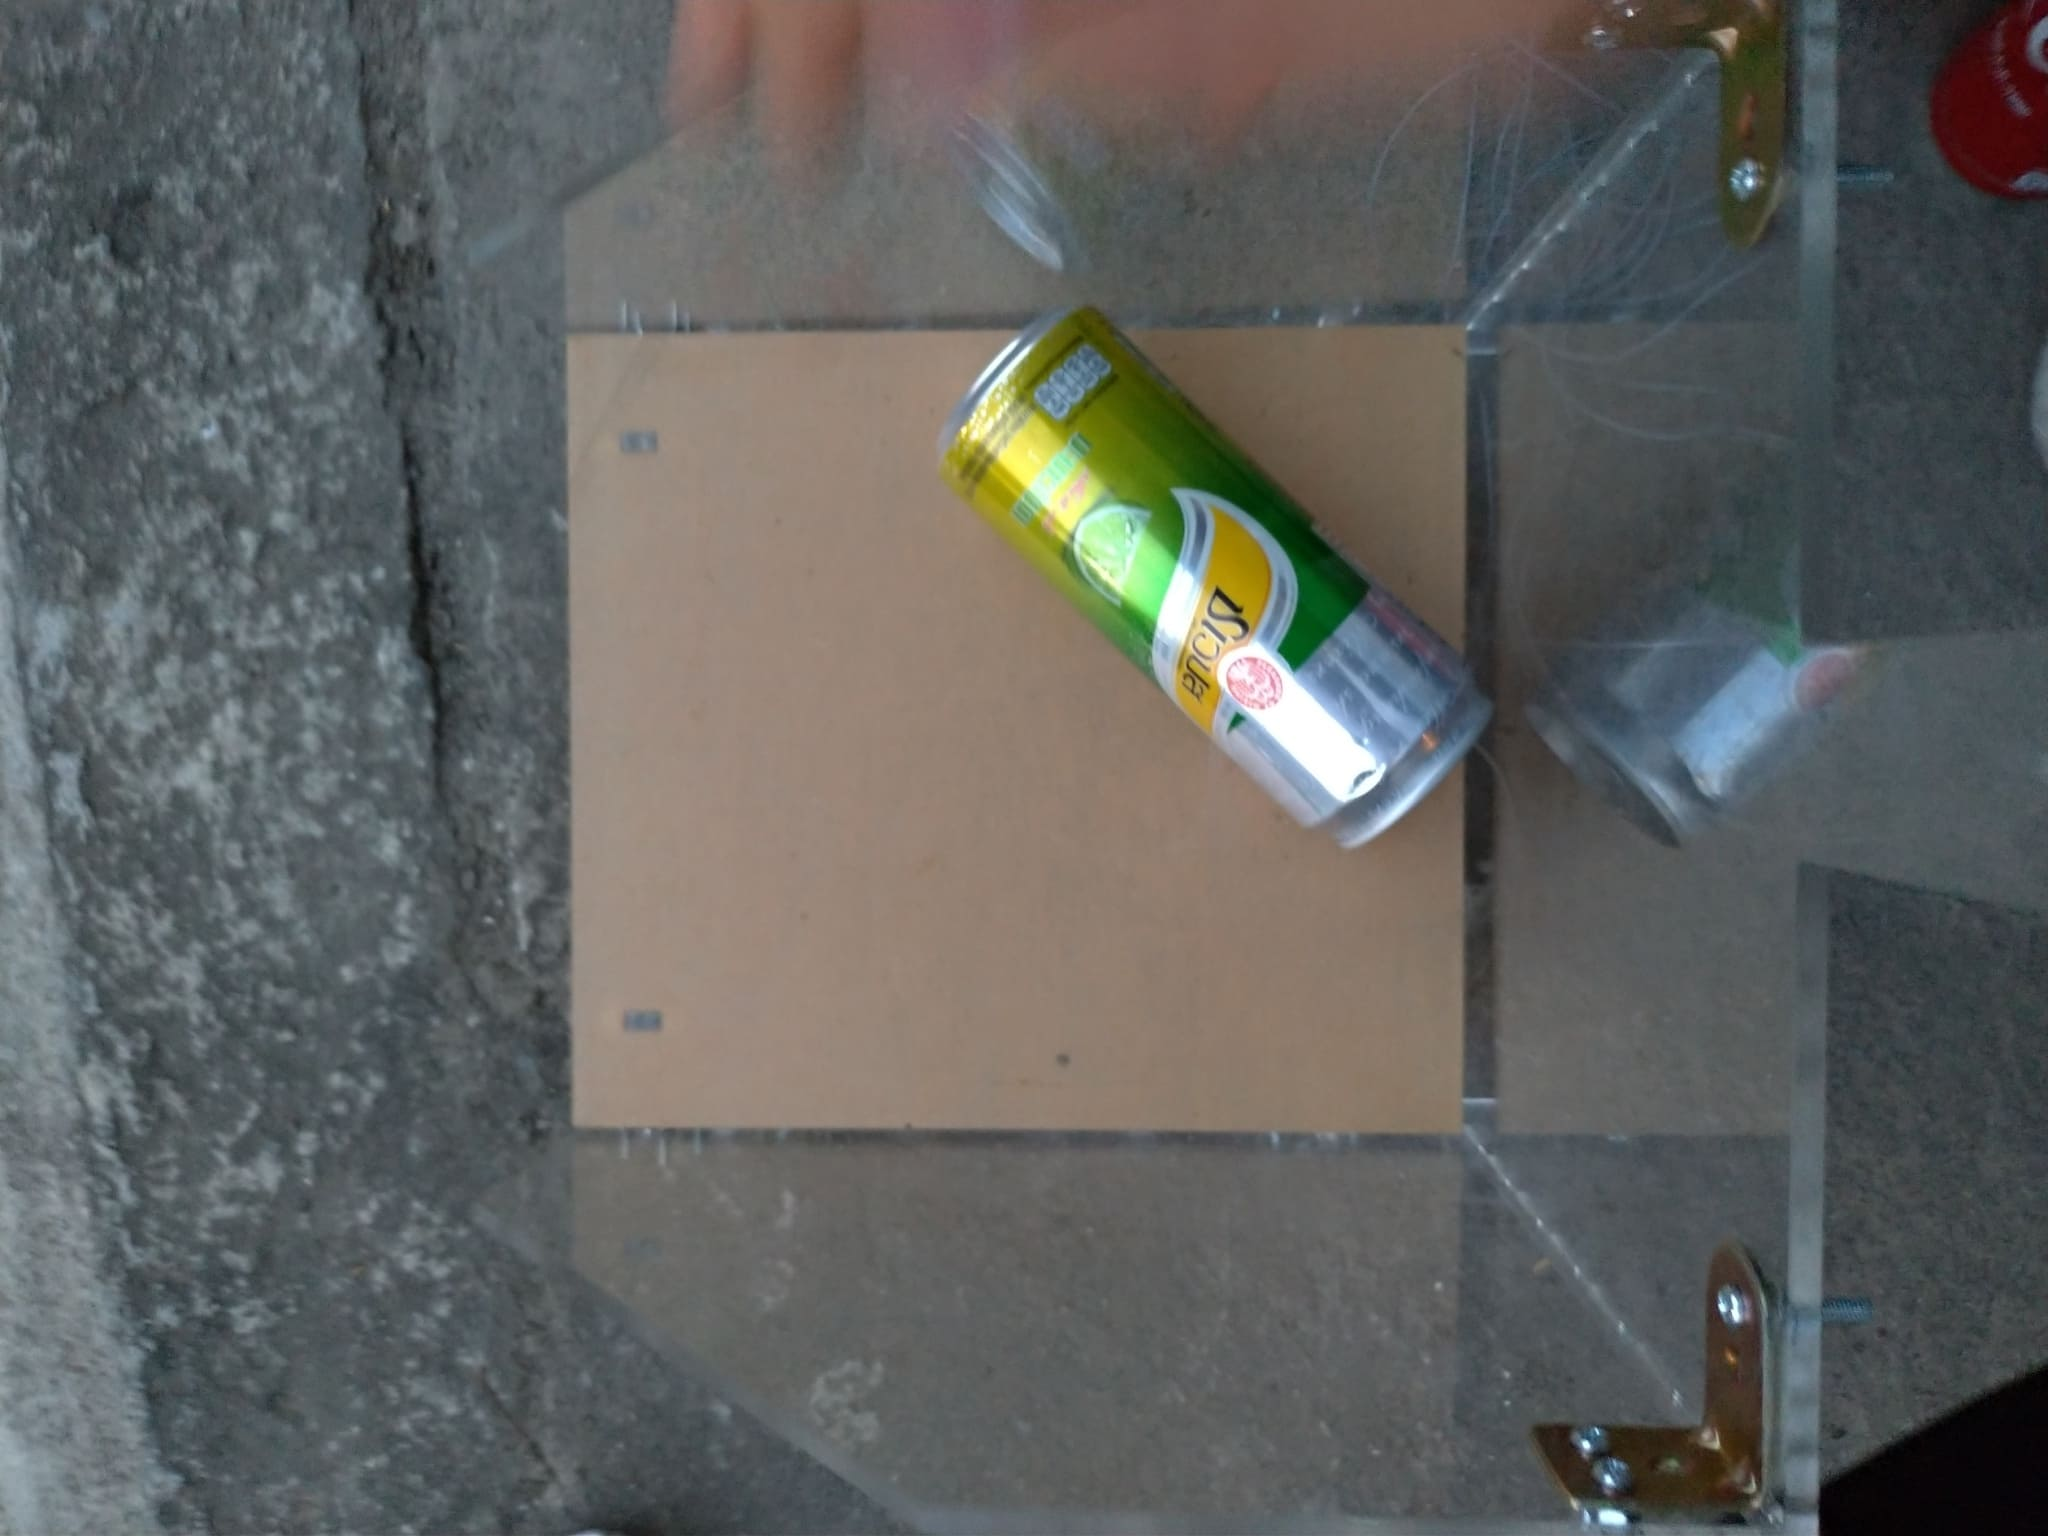AlCan: (929, 300, 1488, 850), (1925, 26, 2045, 200)
